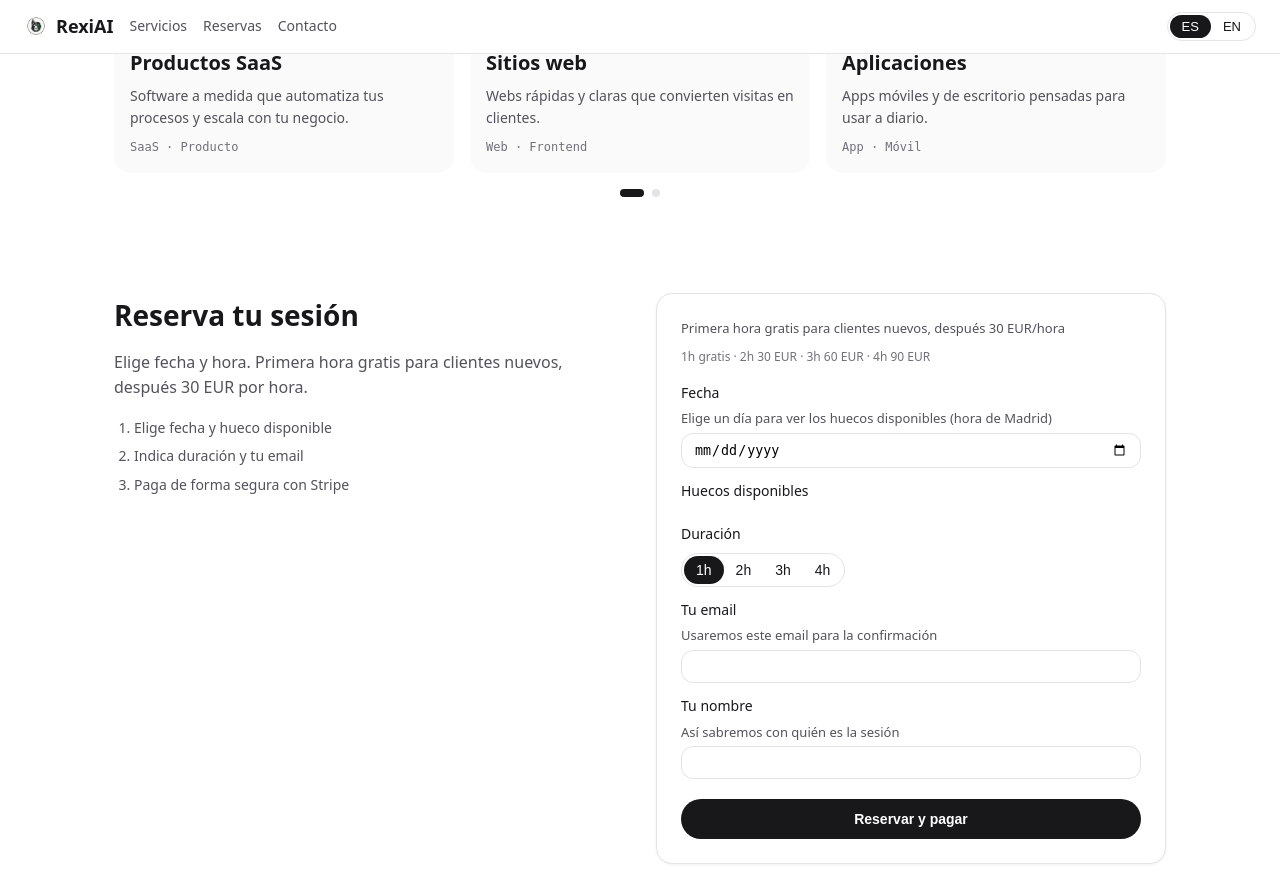
AC-011 › AC-011-05: Invalid email blocks submission without a request
(page scrolled)
Type "2027-03-01" into the date field with id "booking-date". click: point(911, 451)
box: [681,433,1141,468]
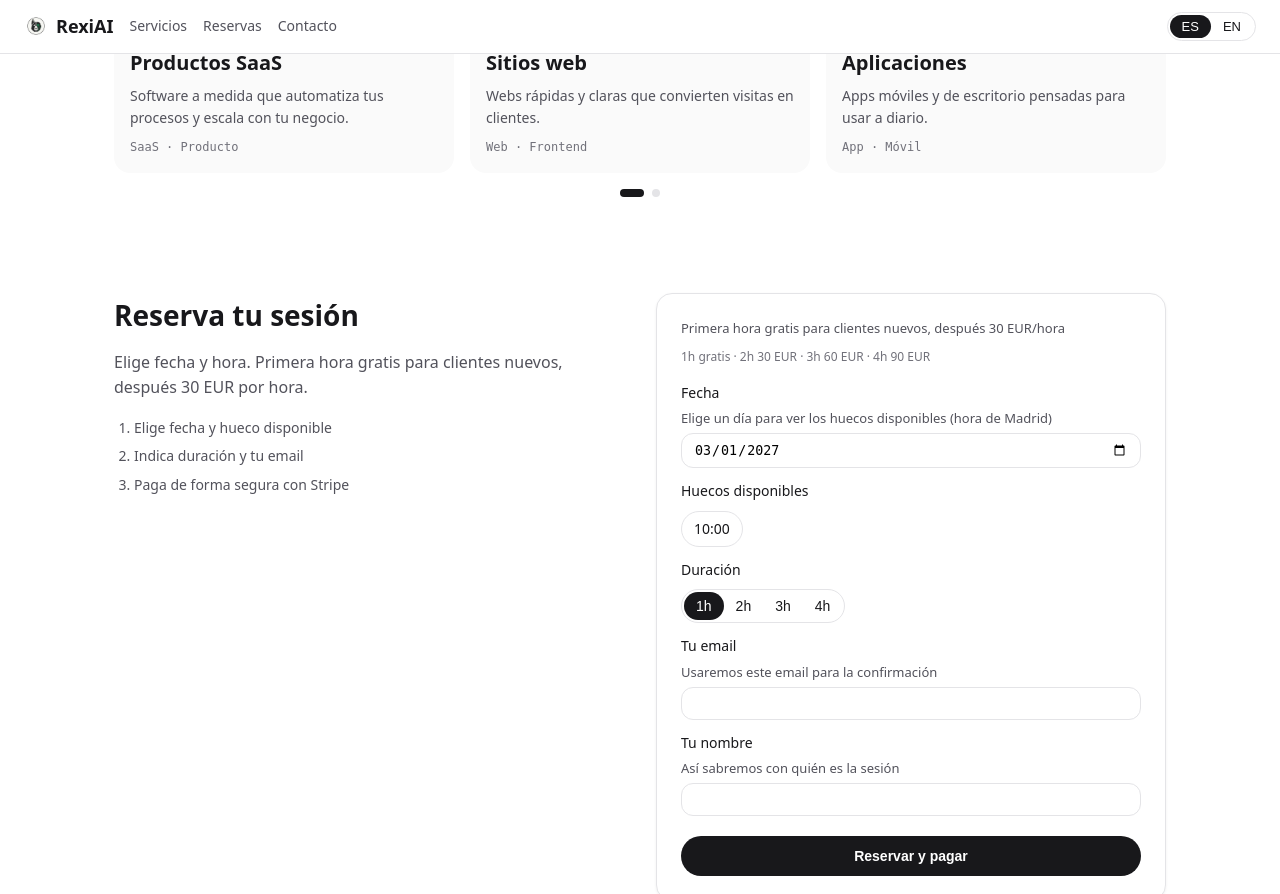
expect the radio button "10:00" is shown: met
Click the radio button "10:00". click: point(712, 529)
box: [681,511,743,547]
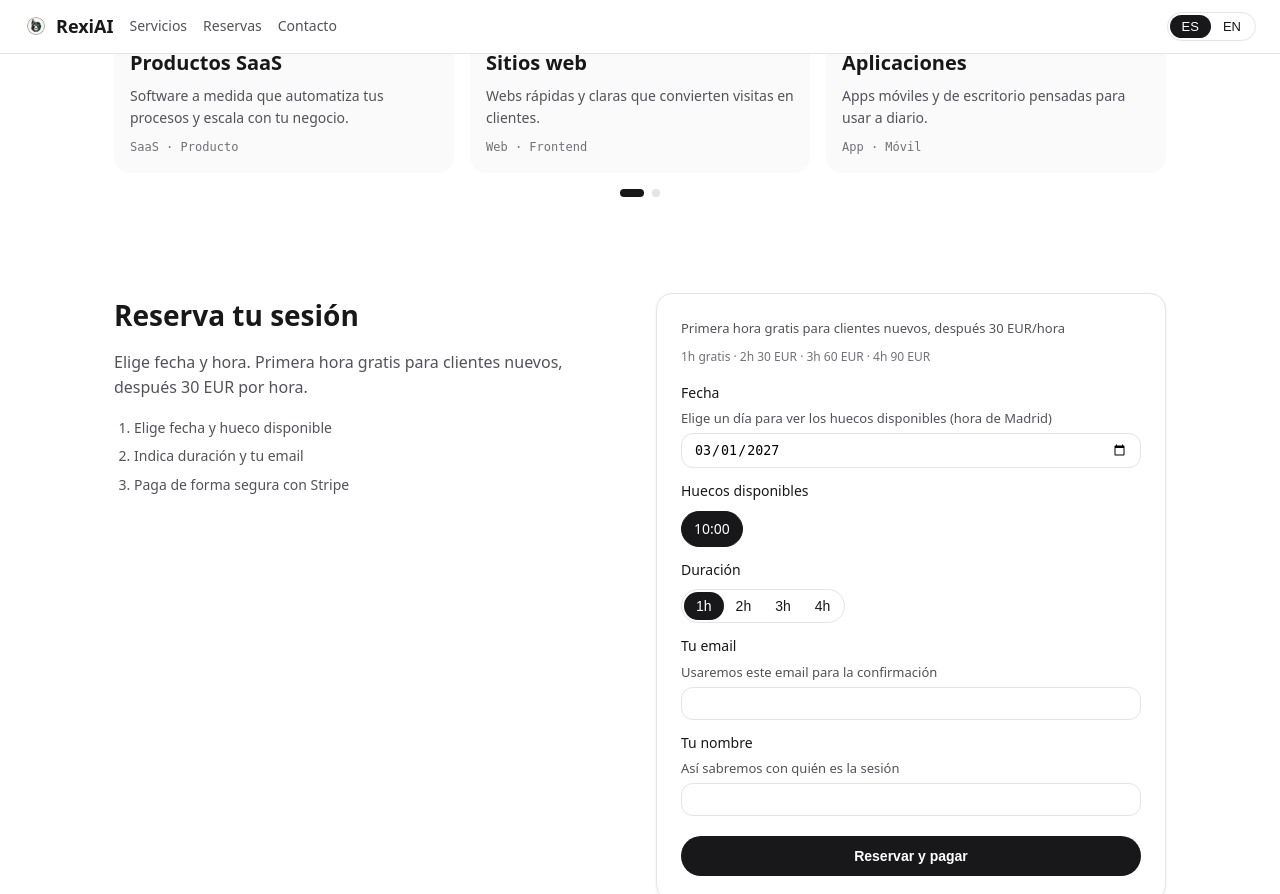
Type "not-an-email" into the field with id "booking-email". click: point(911, 703)
box: [681,687,1141,720]
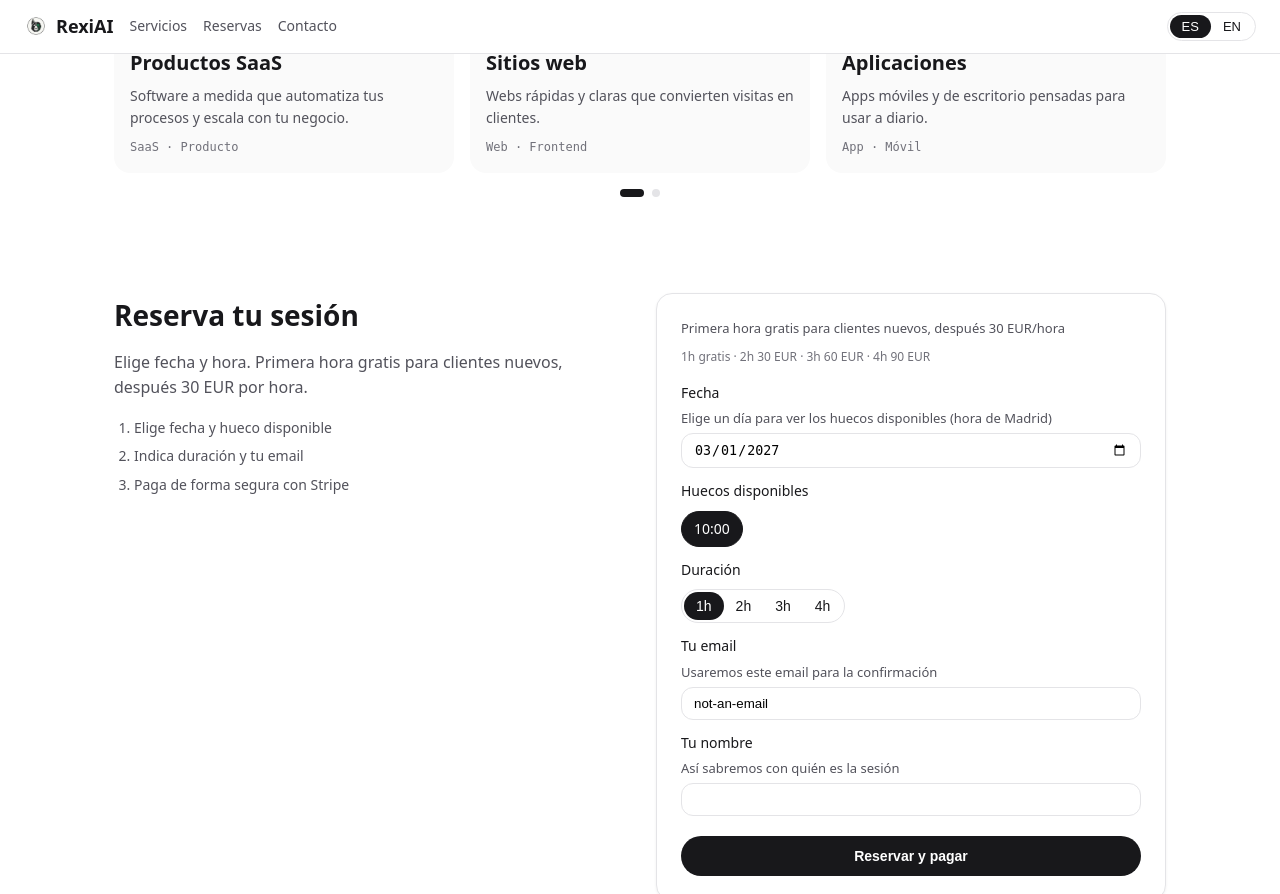
Click the button "Reservar y pagar". click: point(911, 856)
box: [681,836,1141,876]
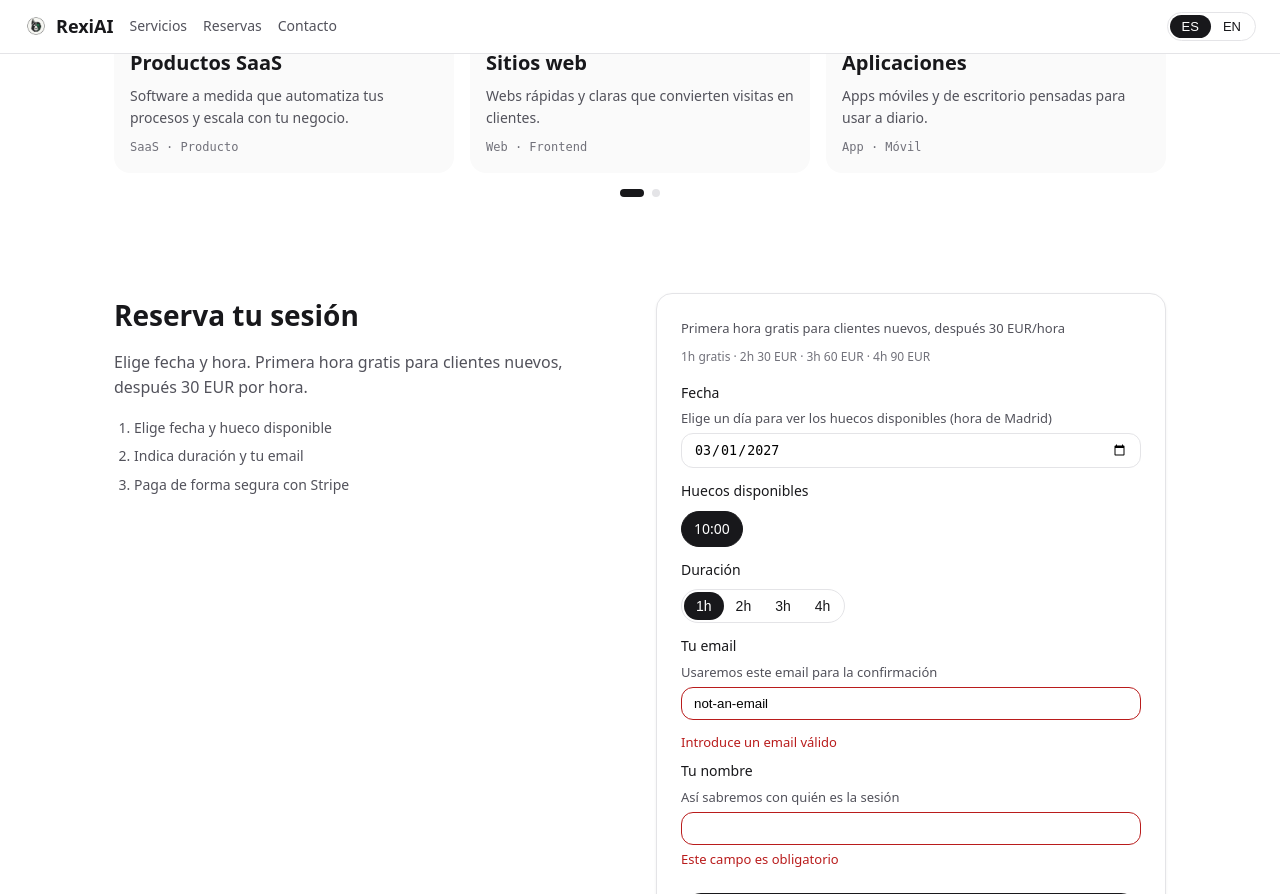
expect the text "Introduce un email válido" is shown: met, box [681,733,837,751]
